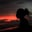face: (15, 4, 26, 20)
